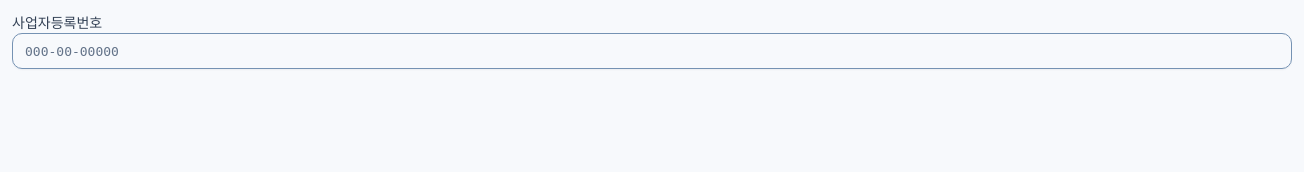
Test: RegistrationNumberInput (ADMIN-UI-MERCHANT-002 — auto hyphen while typing; state stays digits only) › pasting a hyphenated or spaced number keeps digits only
Click the field labelled "사업자등록번호" at (652, 51), box [12, 33, 1292, 69]
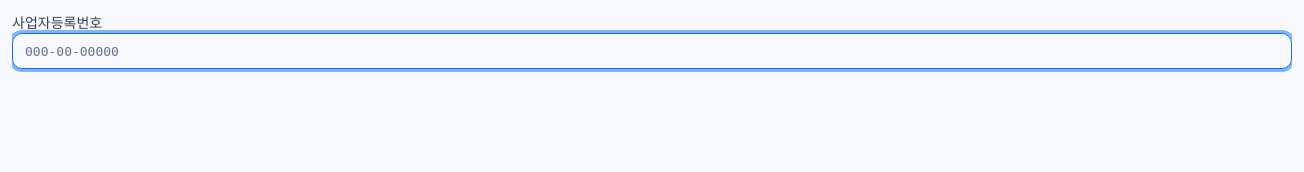
Type keys "778 12-34560"
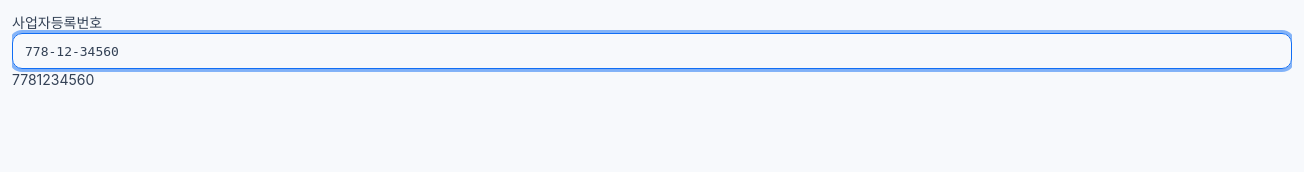
Result: the field labelled "사업자등록번호" holds "778-12-34560" at [12, 33, 1292, 69]
